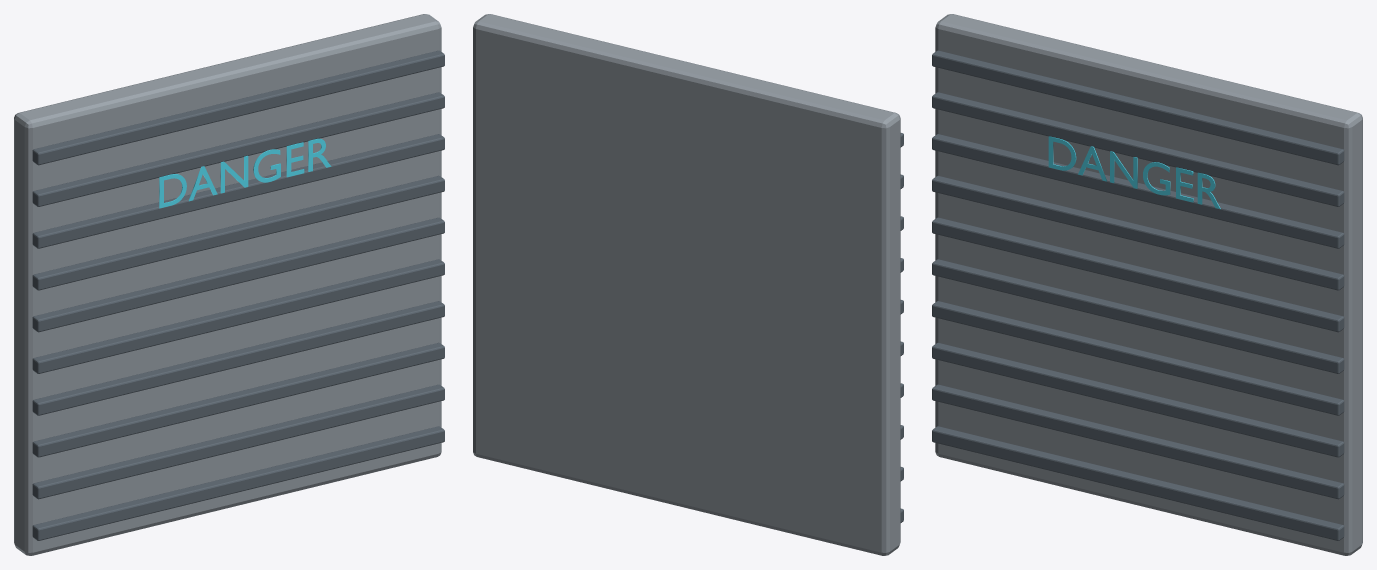
The model's file is 0_Unstable.fbx.
3 views of the same model, side by side, from view 1: azimuth 30°, elevation 25°; view 2: azimuth 150°, elevation 25°; view 3: azimuth 330°, elevation 25° (orthographic).
Parts seen in each view (by area): view 1: Body; view 2: Body; view 3: Body.
Part boxes in pixels (x1,y1,x2,y2): Body: [14, 14, 444, 555]; Body: [473, 14, 903, 555]; Body: [932, 14, 1362, 555].
Bounding box in the file's own units: 2.4 × 2.4 × 0.242.
